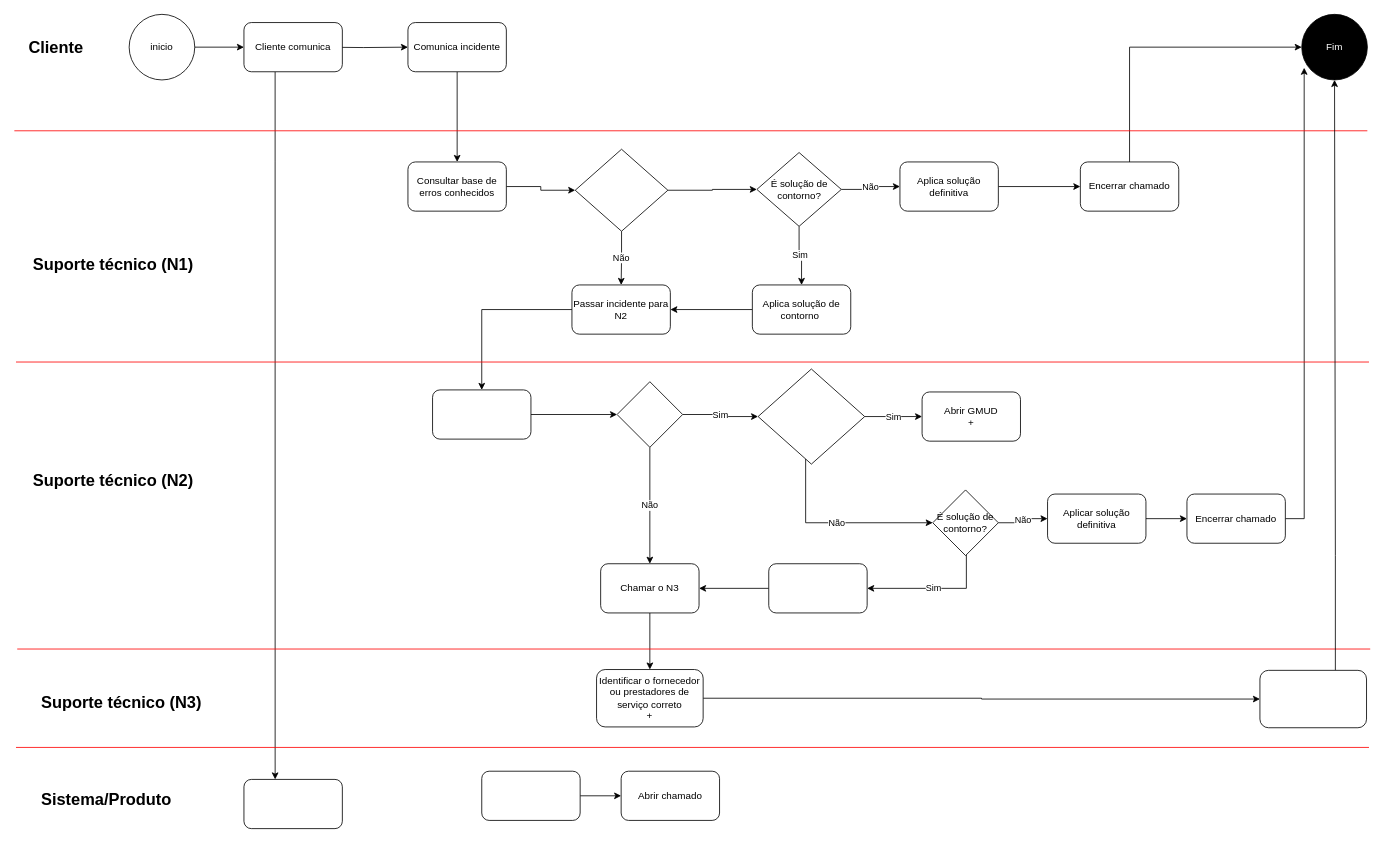
This 1385x843 diagram has some shape labels left out. The shapes that lost their labels are listed below. From the top down, each one's centre as x and y in pixels, then its label:
the point at 621,189: Erro conhecido?
the point at 481,414: Tentar achar o problema
the point at 649,414: Achou a causa raiz?
the point at 811,416: Gera indisponibilidade no sistema?
the point at 817,588: Aplicar solução de contorno
the point at 1313,699: Encerrar pedido de ajuda
the point at 292,804: Bot consulta base de erros conhecidos
the point at 530,795: Quando atingir memória RAM ou memória ROM elevada
